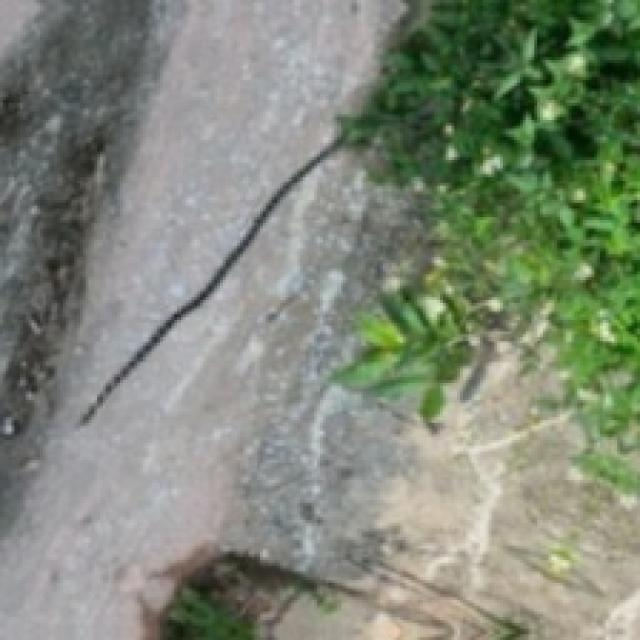king cobra: (80, 135, 342, 424)
